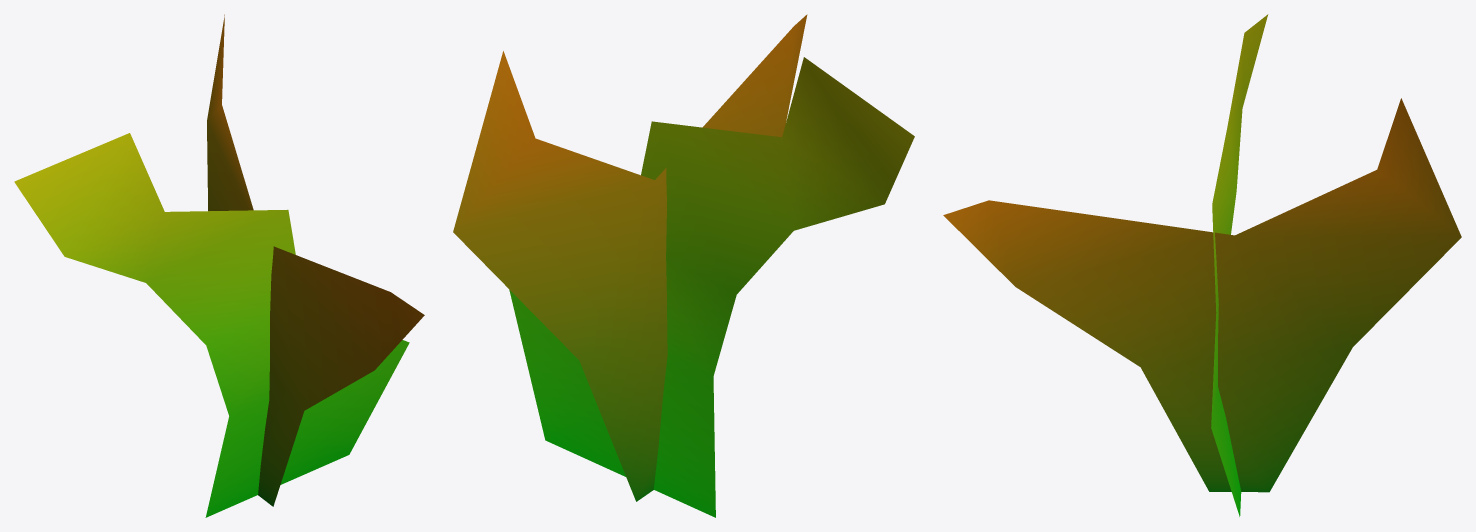
File: Var11Hi30.fbx
3 views of the same model, side by side, from view 1: azimuth 30°, elevation 25°; view 2: azimuth 150°, elevation 25°; view 3: azimuth 270°, elevation 25° (orthographic). The views are drawn at different scales.
Visible parts, largest first — view 1: bend1; view 2: bend1; view 3: bend1.
Boxes of the visible parts, box(x1,y1,x2,y2) form: bend1: box(14, 14, 424, 517); bend1: box(453, 14, 914, 517); bend1: box(943, 14, 1461, 516).
Size of the model in its own units: 1.35 by 1.48 by 1.63.
